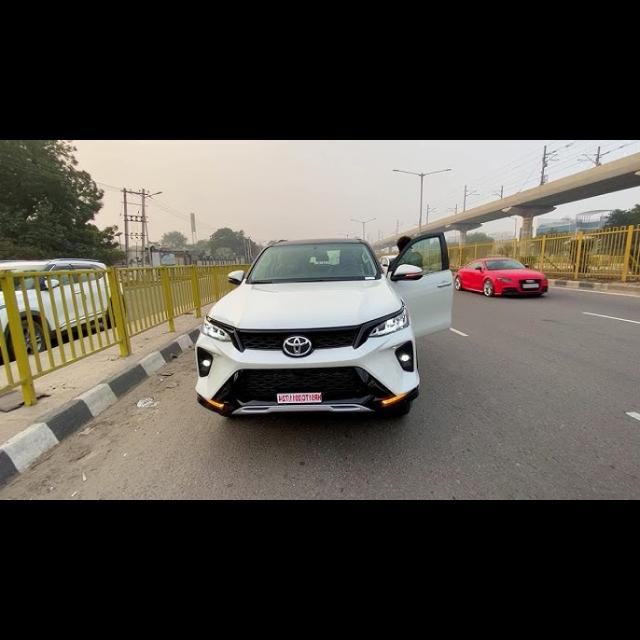vehicles: (192, 215, 414, 440), (456, 252, 550, 298)
